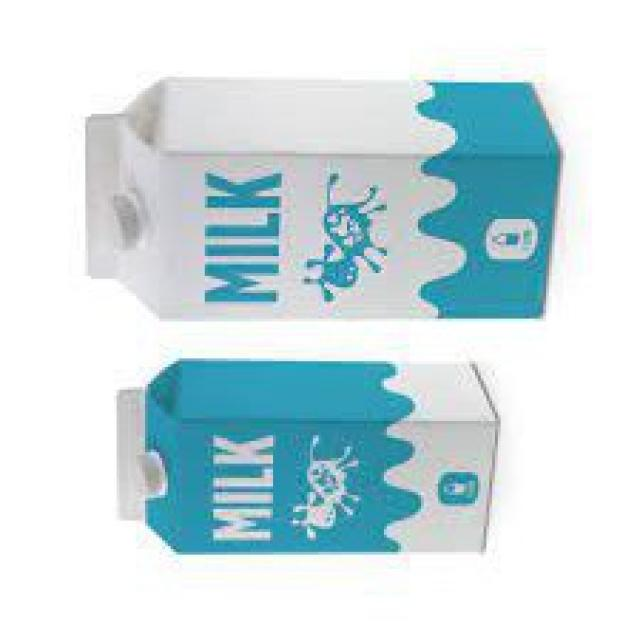non_white_jug: (80, 73, 564, 320), (111, 358, 496, 555)
